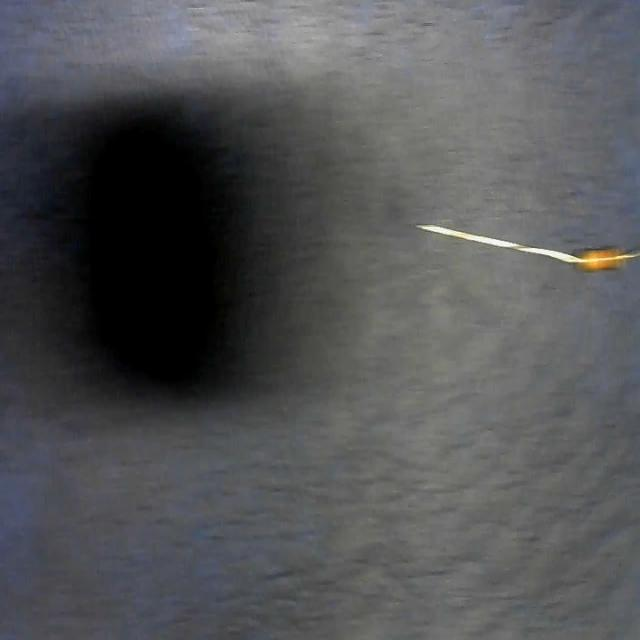resistor: (415, 223, 640, 276)
